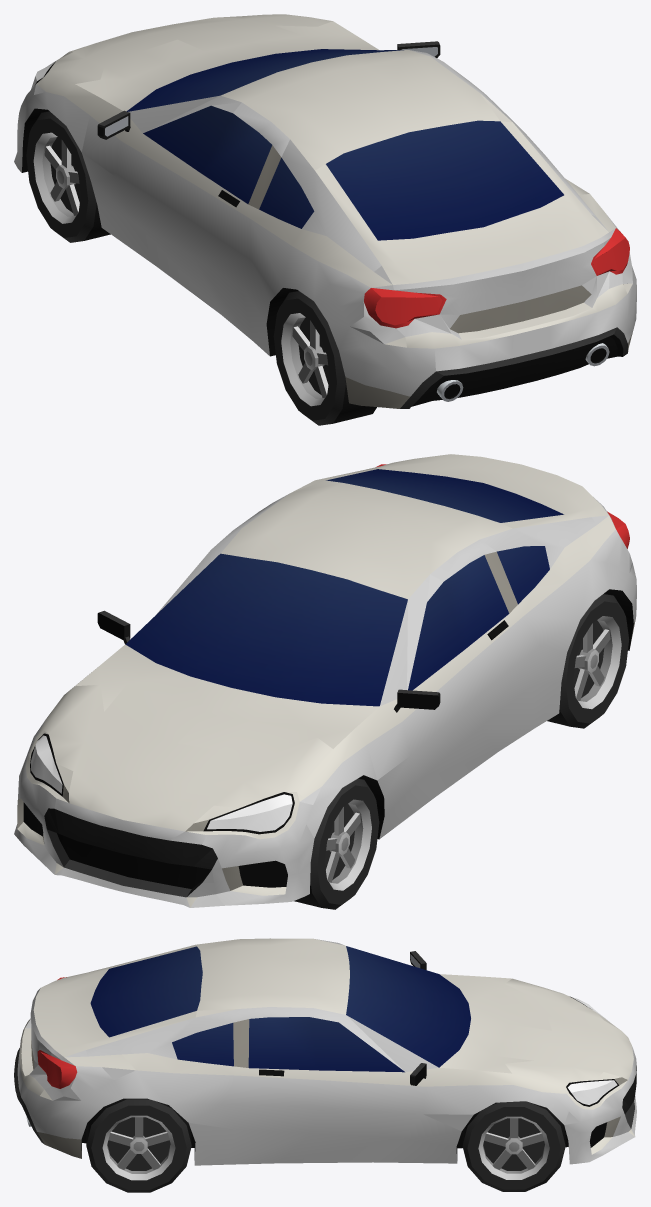
Rendered from Car_27.fbx.
3 renders of one model, top to bottom at view 1: azimuth 30°, elevation 25°; view 2: azimuth 150°, elevation 25°; view 3: azimuth 270°, elevation 25°, orthographic. The views are drawn at different scales.
Parts seen in each view (by area): view 1: Car_27, Car_27_Tire.002, Car_27_Tire.003; view 2: Car_27, Car_27_Tire.002, Car_27_Tire.003; view 3: Car_27, Car_27_Tire, Car_27_Tire.001.
Boxes of the visible parts, x1,y1,x2,y2 form: Car_27: [14, 14, 636, 408]; Car_27_Tire.002: [273, 290, 376, 425]; Car_27_Tire.003: [26, 111, 110, 242]; Car_27: [14, 454, 636, 907]; Car_27_Tire.002: [547, 593, 629, 728]; Car_27_Tire.003: [294, 778, 379, 909]; Car_27: [14, 938, 636, 1165]; Car_27_Tire: [86, 1098, 191, 1192]; Car_27_Tire.001: [462, 1101, 565, 1191].
Bounding box in the file's own units: 1.99 × 1.28 × 4.17.
